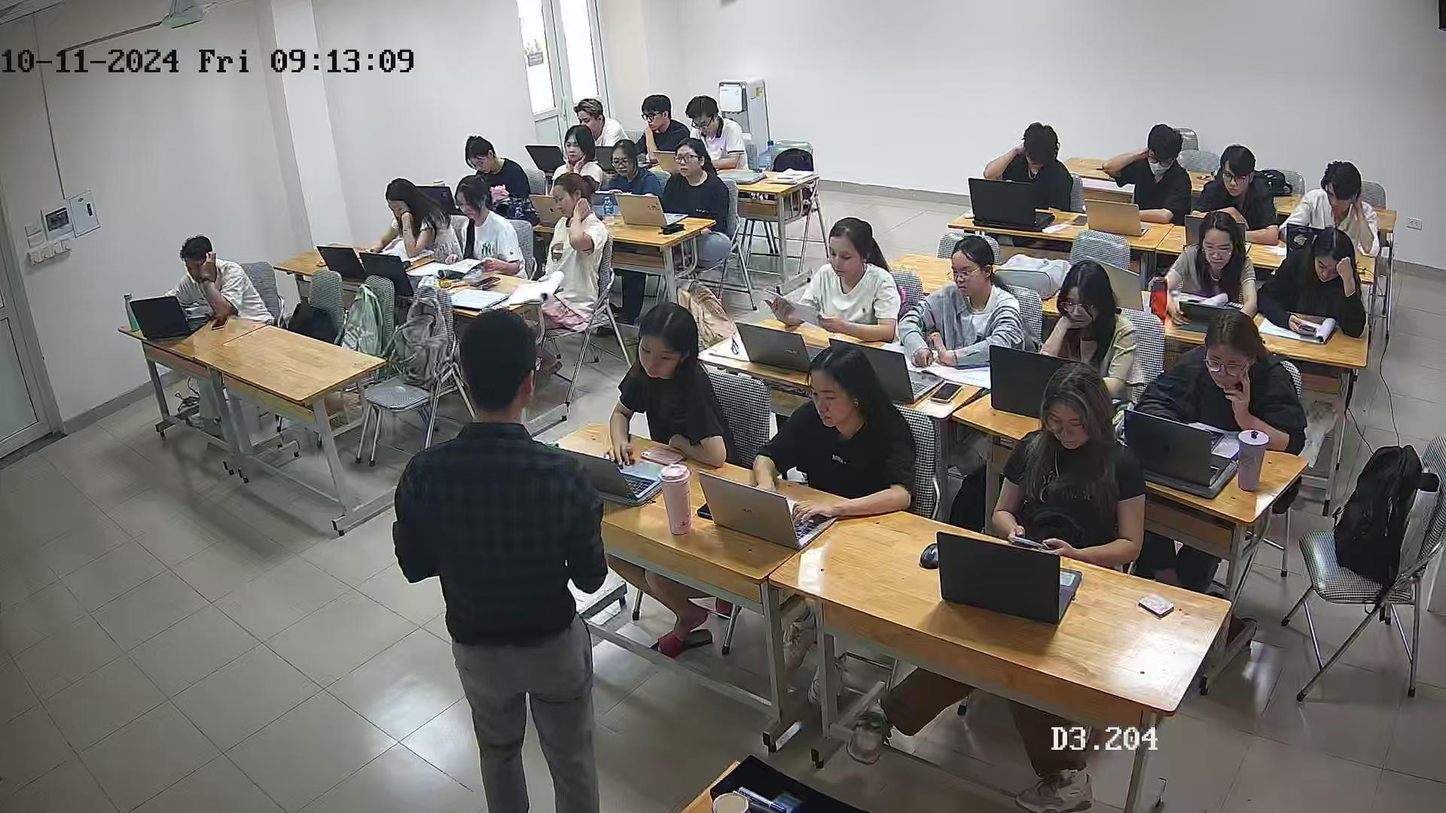Stand Up: (398, 298, 616, 813)
phone: (1010, 520, 1063, 559), (1279, 310, 1320, 340)
